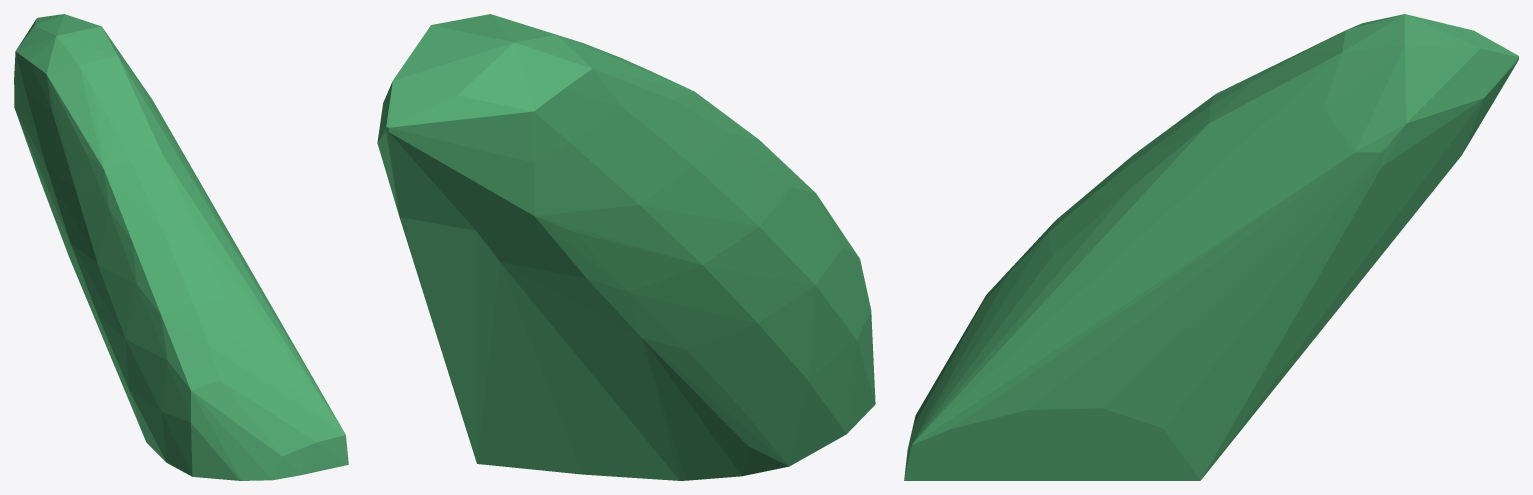
3 renders of one model, left to right at view 1: azimuth 30°, elevation 25°; view 2: azimuth 150°, elevation 25°; view 3: azimuth 270°, elevation 25°, orthographic. The views are drawn at different scales.
Size of the model in its own units: 0.0102 by 0.0206 by 0.0284.
